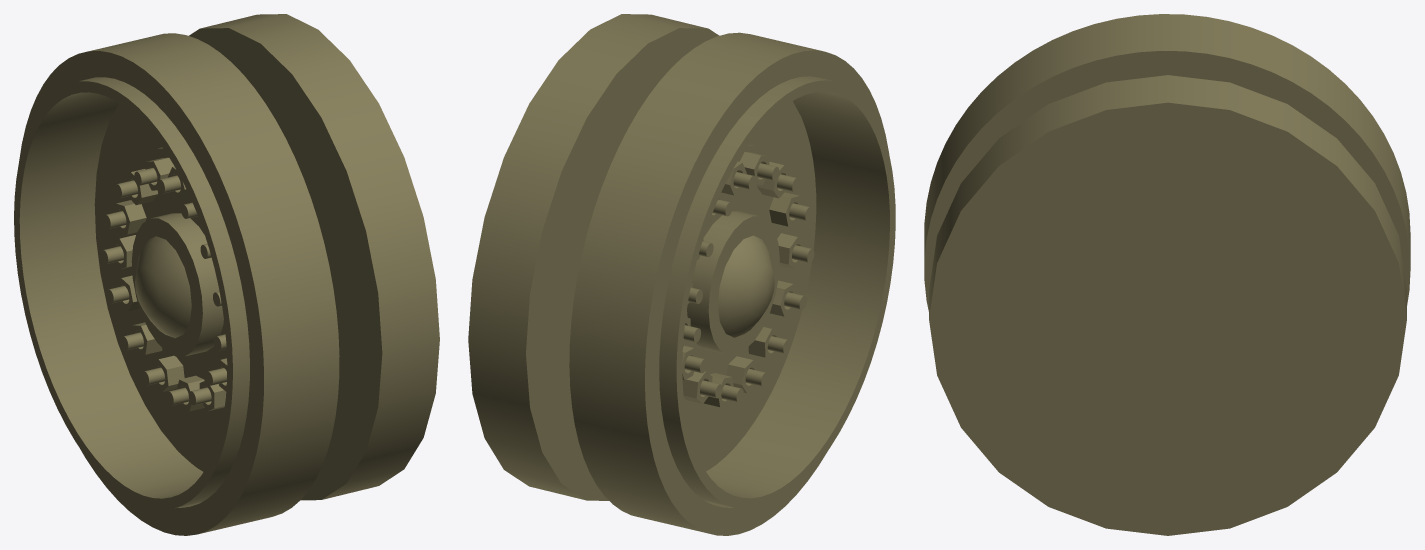
File: caterpillar_circle2.fbx
The picture shows the model from 3 angles, left to right: view 1: azimuth 30°, elevation 25°; view 2: azimuth 150°, elevation 25°; view 3: azimuth 270°, elevation 25°; orthographic projection.
Visible parts, largest first — view 1: FLACK RUEDA08; view 2: FLACK RUEDA08; view 3: FLACK RUEDA08.
Boxes of the visible parts, x1,y1,x2,y2 form: FLACK RUEDA08: (14, 14, 439, 535); FLACK RUEDA08: (468, 14, 895, 535); FLACK RUEDA08: (924, 14, 1410, 535).
Size of the model in its own units: 290 by 632 by 631.
